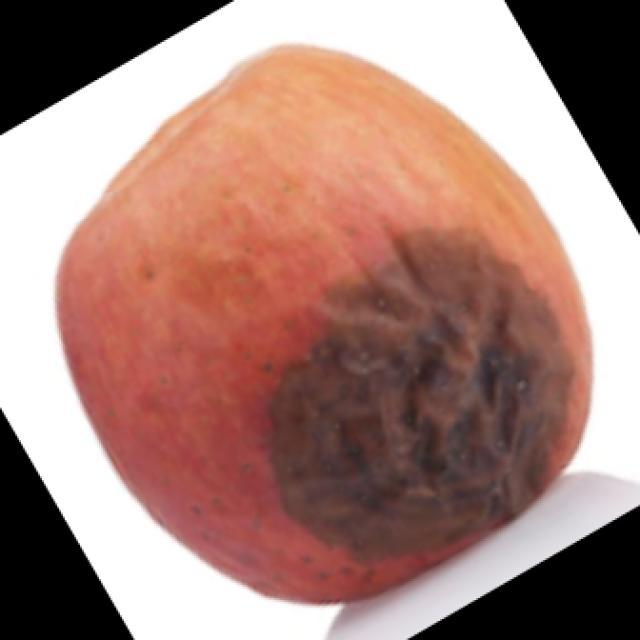Rotten: (69, 43, 604, 602)
